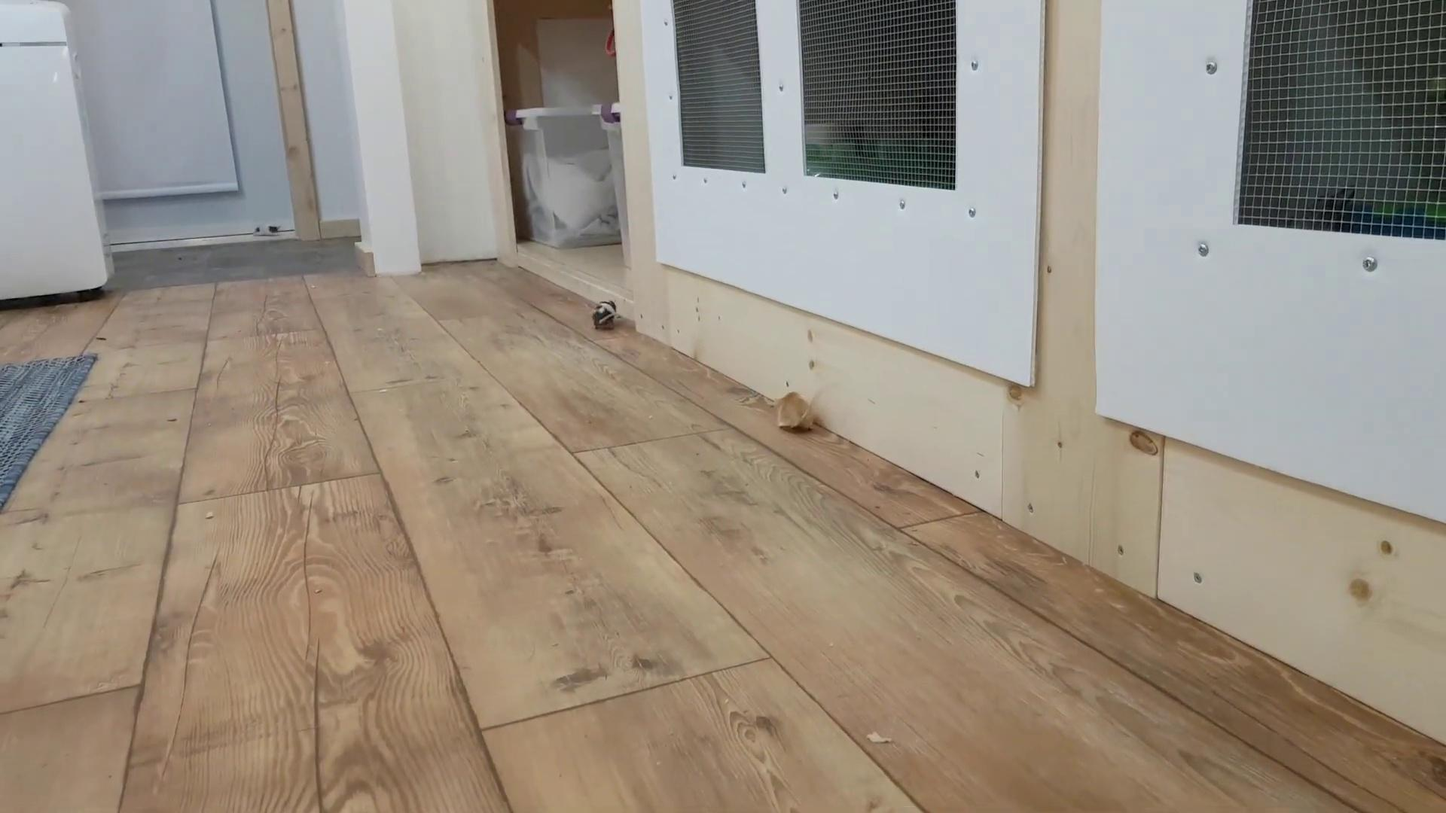rat: (779, 388, 823, 432), (593, 301, 616, 327)
